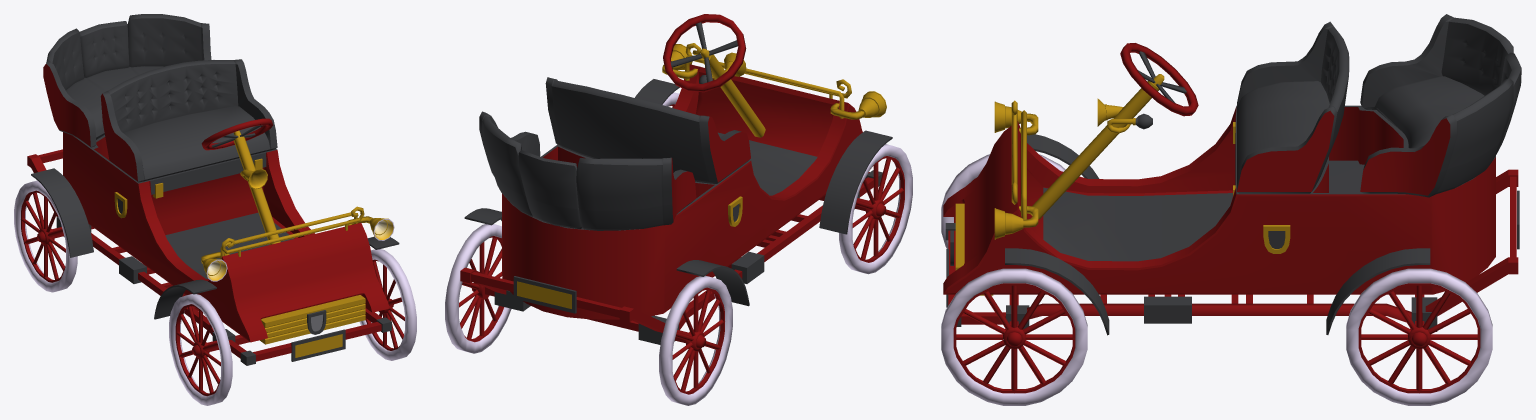
Rendered from Car_2.fbx.
The picture shows the model from 3 angles, left to right: view 1: azimuth 30°, elevation 25°; view 2: azimuth 150°, elevation 25°; view 3: azimuth 270°, elevation 25°; orthographic projection. The views are drawn at different scales.
Visible parts, largest first — view 1: 2_Car_BaseModel, 2_Car_FrontRight, 2_Car_BackRight, 2_Car_FrontLeft; view 2: 2_Car_BaseModel, 2_Car_BackRight, 2_Car_FrontRight, 2_Car_BackLeft; view 3: 2_Car_BaseModel, 2_Car_FrontLeft, 2_Car_BackLeft, 2_Car_FrontRight.
Part boxes in pixels (box(x1,y1,x2,y2)): 2_Car_BaseModel: box(27, 14, 399, 365); 2_Car_FrontRight: box(169, 294, 232, 405); 2_Car_BackRight: box(14, 180, 77, 292); 2_Car_FrontLeft: box(359, 249, 416, 360); 2_Car_BaseModel: box(460, 14, 892, 344); 2_Car_BackRight: box(659, 275, 732, 405); 2_Car_FrontRight: box(839, 144, 912, 274); 2_Car_BackLeft: box(445, 224, 511, 353); 2_Car_BaseModel: box(943, 14, 1521, 335); 2_Car_FrontLeft: box(941, 268, 1087, 405); 2_Car_BackLeft: box(1346, 268, 1492, 405); 2_Car_FrontRight: box(941, 154, 1065, 248).
Size of the model in its own units: 207 by 218 by 387.
